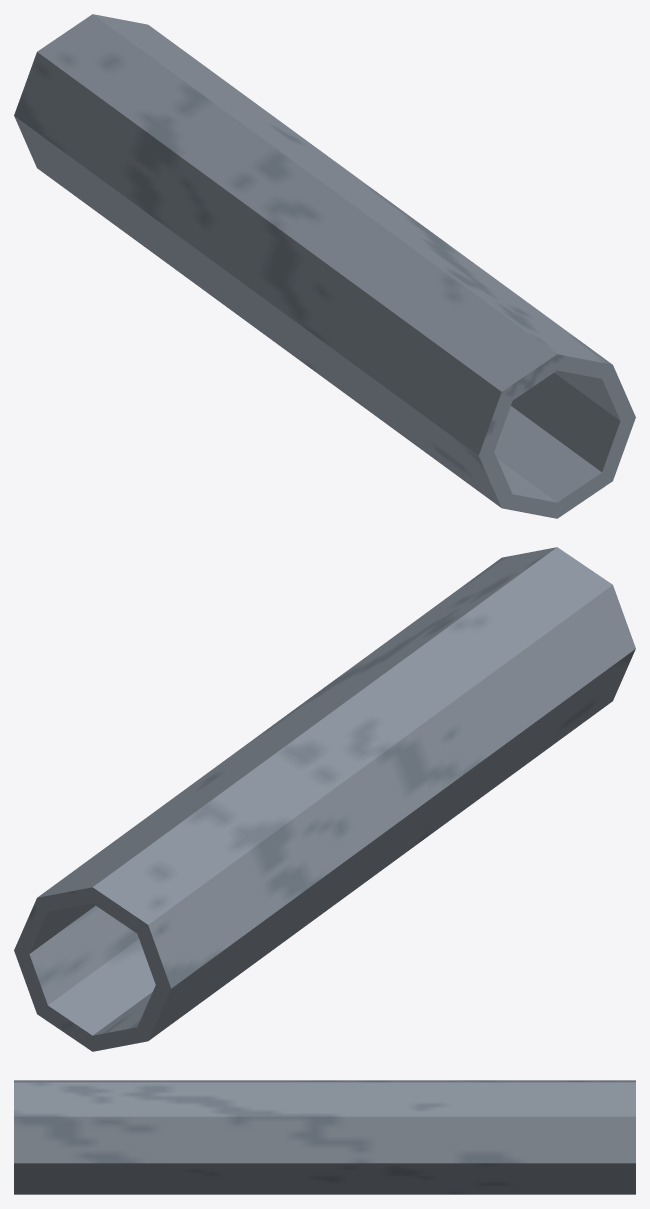
The model's file is gangguan.fbx.
The picture shows the model from 3 angles, top to bottom: view 1: azimuth 30°, elevation 25°; view 2: azimuth 150°, elevation 25°; view 3: azimuth 270°, elevation 25°; orthographic projection. The views are drawn at different scales.
Visible parts, largest first — view 1: 柱体; view 2: 柱体; view 3: 柱体.
Part boxes in pixels (x1,y1,x2,y2): 柱体: [14, 14, 635, 518]; 柱体: [14, 547, 635, 1051]; 柱体: [14, 1080, 635, 1194].
Size of the model in its own units: 22.62 by 22.62 by 116.
